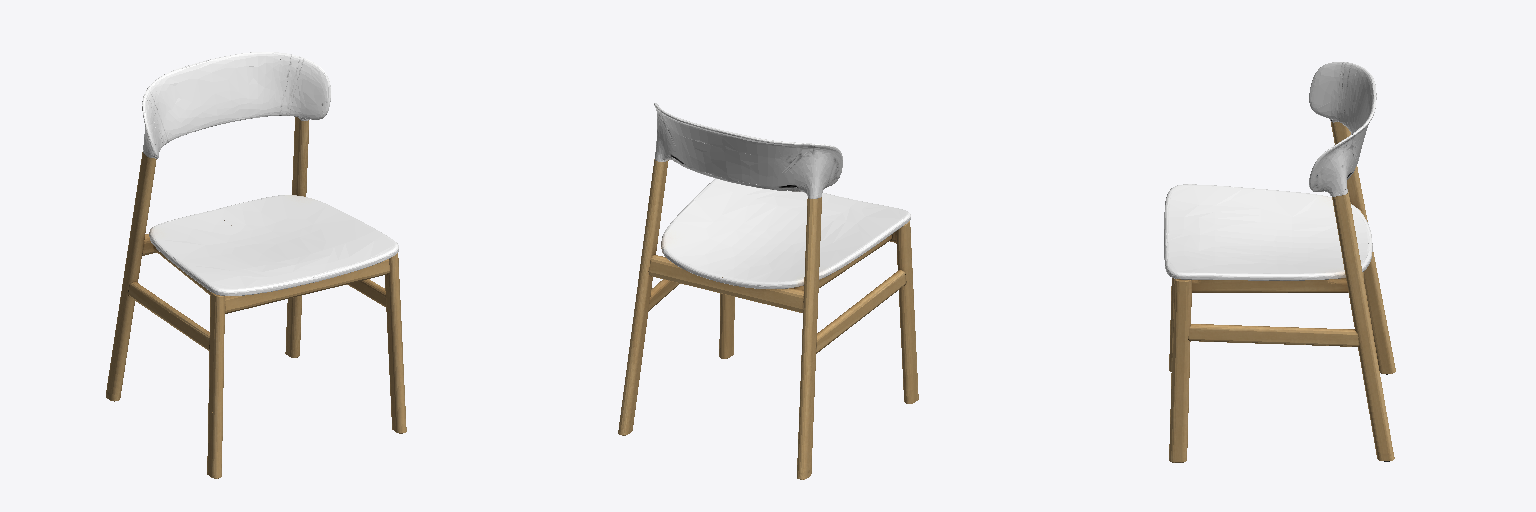
The picture shows the model from 3 angles: view 1: azimuth 30°, elevation 25°; view 2: azimuth 150°, elevation 25°; view 3: azimuth 270°, elevation 25°; orthographic projection.
Parts seen in each view (by area): view 1: solid_005, solid_001; view 2: solid_005, solid_001; view 3: solid_005, solid_001.
Boxes of the visible parts, x1,y1,x2,y2 form: solid_005: [142, 52, 398, 295]; solid_001: [106, 117, 406, 478]; solid_005: [654, 103, 910, 288]; solid_001: [618, 159, 918, 479]; solid_005: [1164, 62, 1376, 280]; solid_001: [1169, 120, 1395, 462].
Size of the model in its own units: 0.954 by 1.51 by 0.9854.
1 materials, 1 textured.